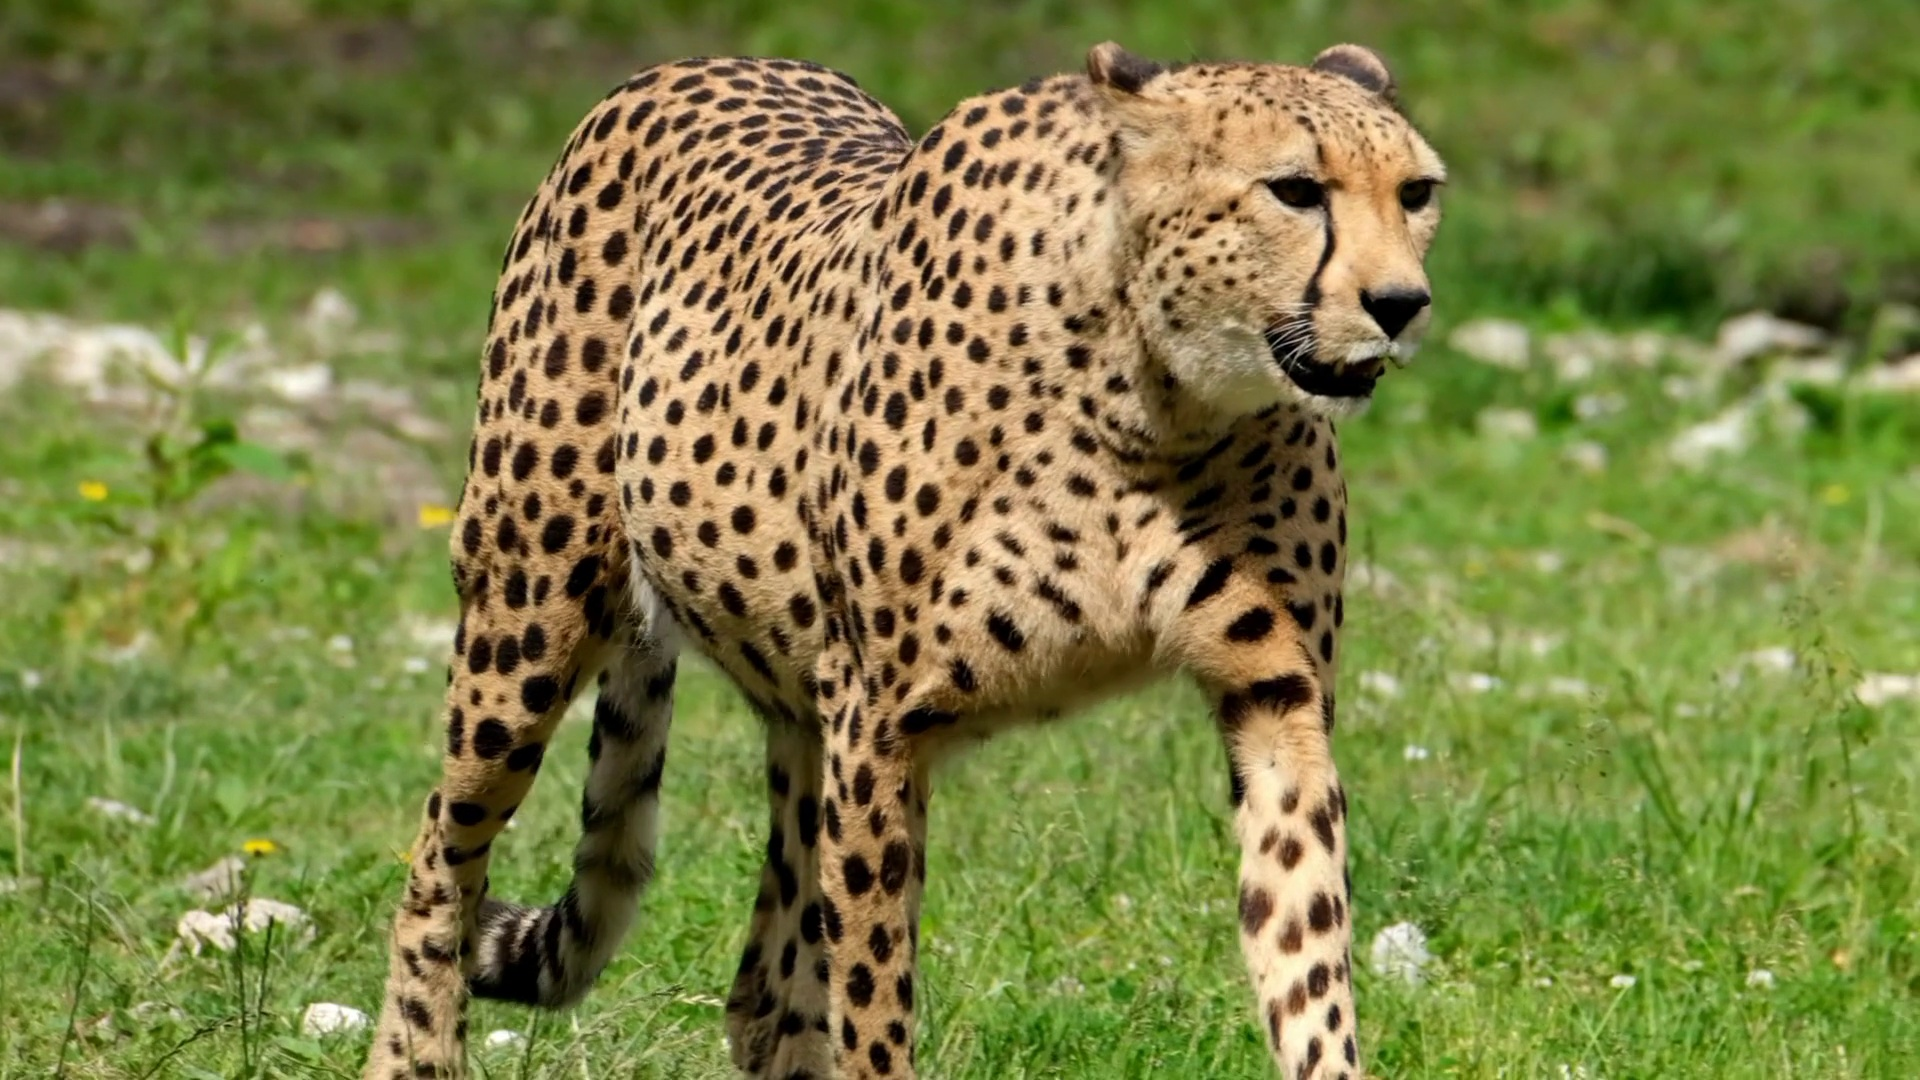Cheetah: (352, 33, 1449, 1080)
